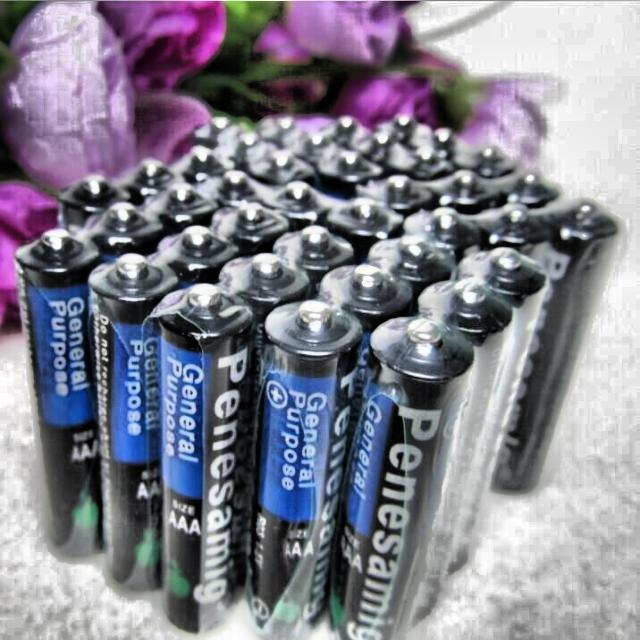battery: (60, 115, 618, 562), (332, 317, 475, 639), (248, 300, 362, 639), (154, 284, 254, 632), (90, 254, 178, 590), (16, 229, 102, 557)
